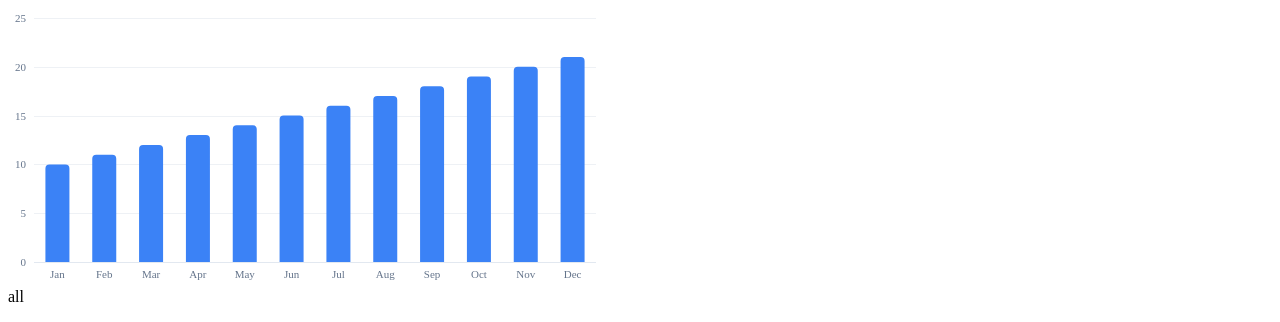
Test: categorical zoom (band axes) › zooms with + / - and resets with 0, the button or a double click
Earlier steps of the test are not shown.
Expected: the text with test id "range" reads "all", [8, 288, 24, 305]
Press + in the picture, box [8, 8, 608, 288]
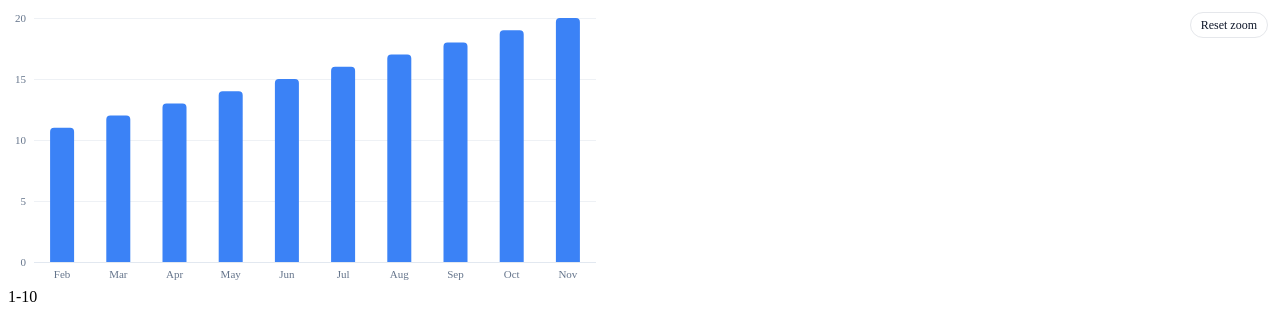
Press + in the picture, box [8, 8, 608, 288]
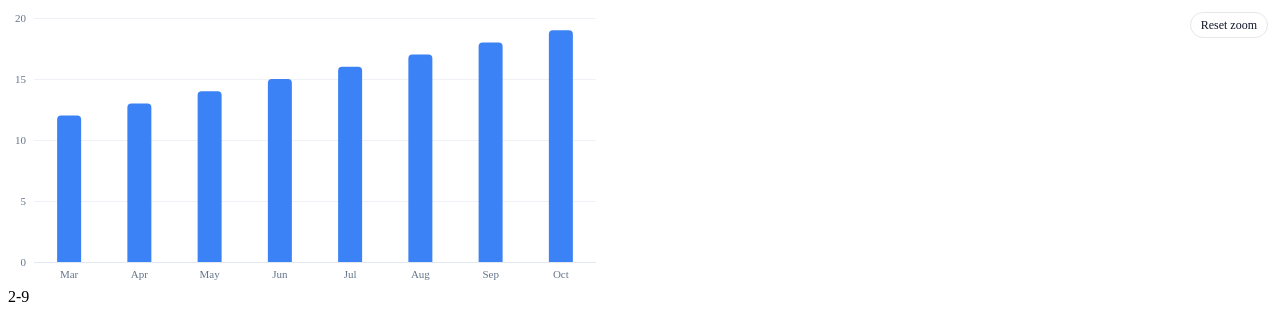
Press - in the picture, box [8, 8, 608, 288]
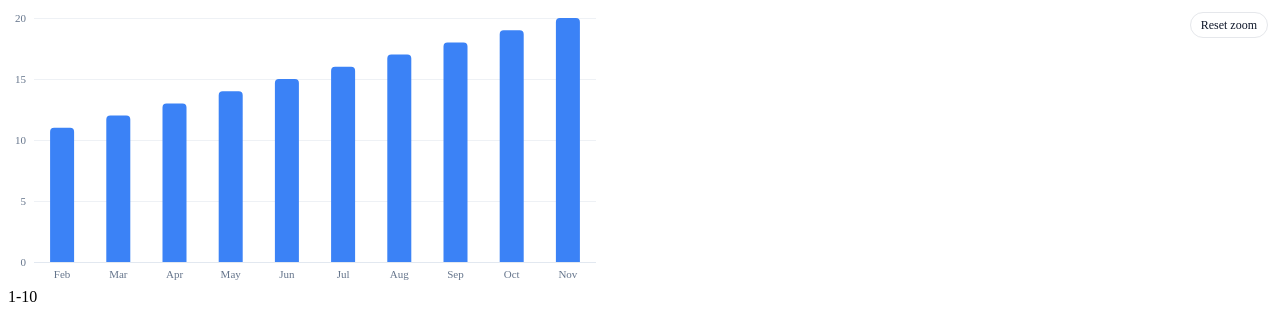
Click the button "Reset zoom".
click(1229, 25)  # box [1190, 12, 1268, 38]
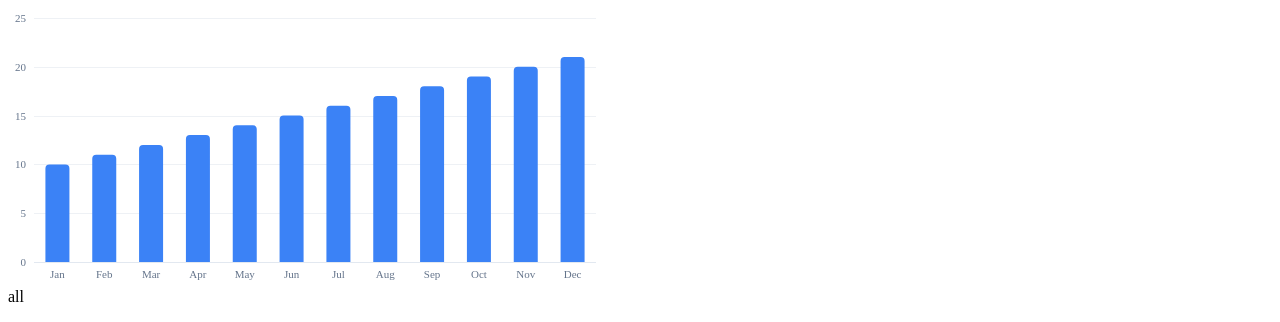
Result: the text with test id "range" reads "all" at [8, 288, 24, 305]
Press + in the picture, box [8, 8, 608, 288]
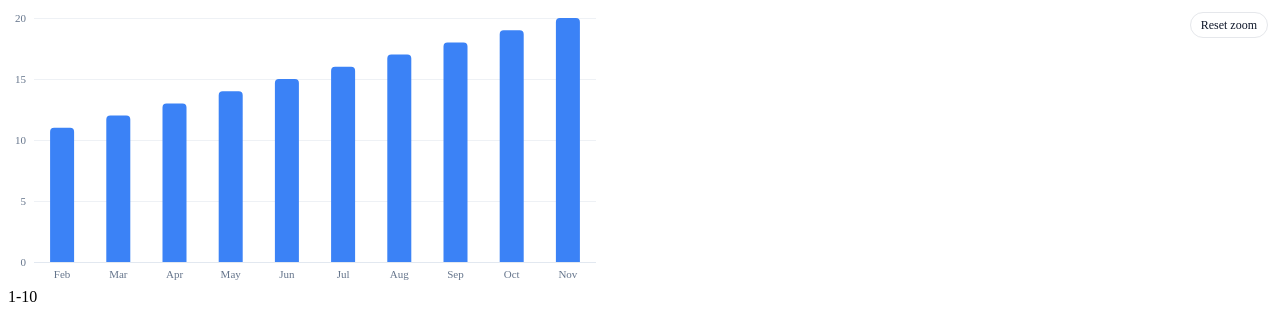
Double-click the icon with class "jc-surface".
double_click(308, 148)  # box [8, 8, 608, 288]
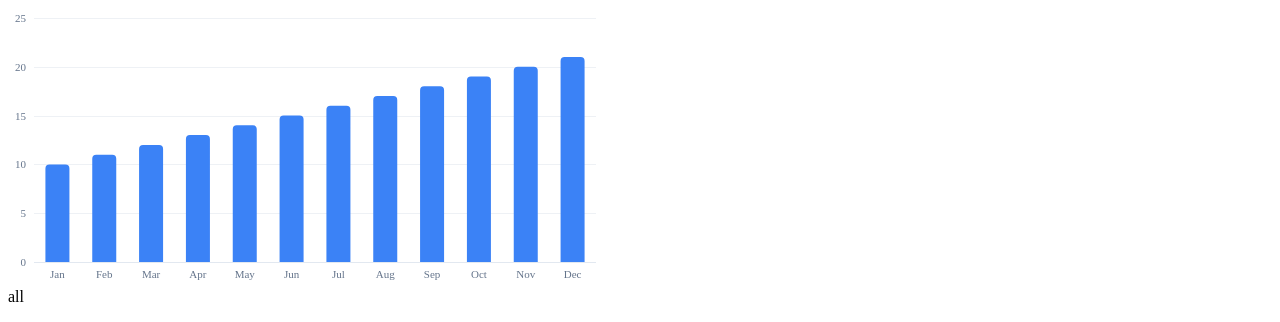
Result: the text with test id "range" reads "all" at [8, 288, 24, 305]
